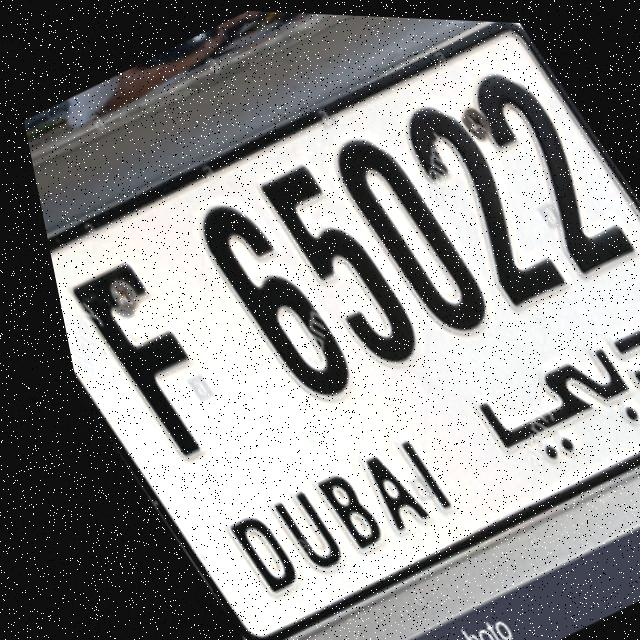license_plate: (4, 24, 640, 631)
